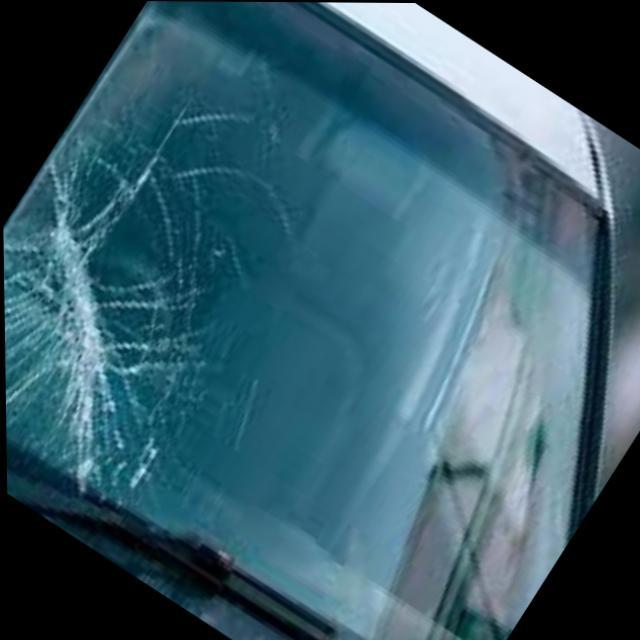glass shatter: (3, 64, 227, 513)
